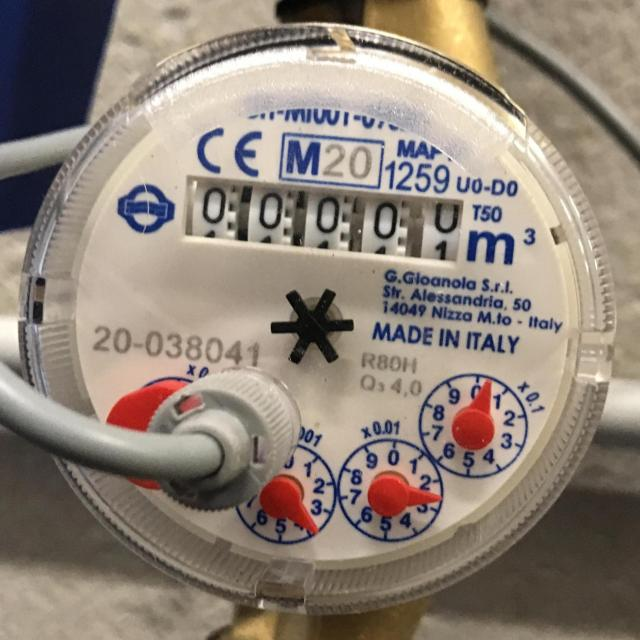gaz_meter: (30, 28, 620, 608)
indication: (180, 176, 467, 265)
